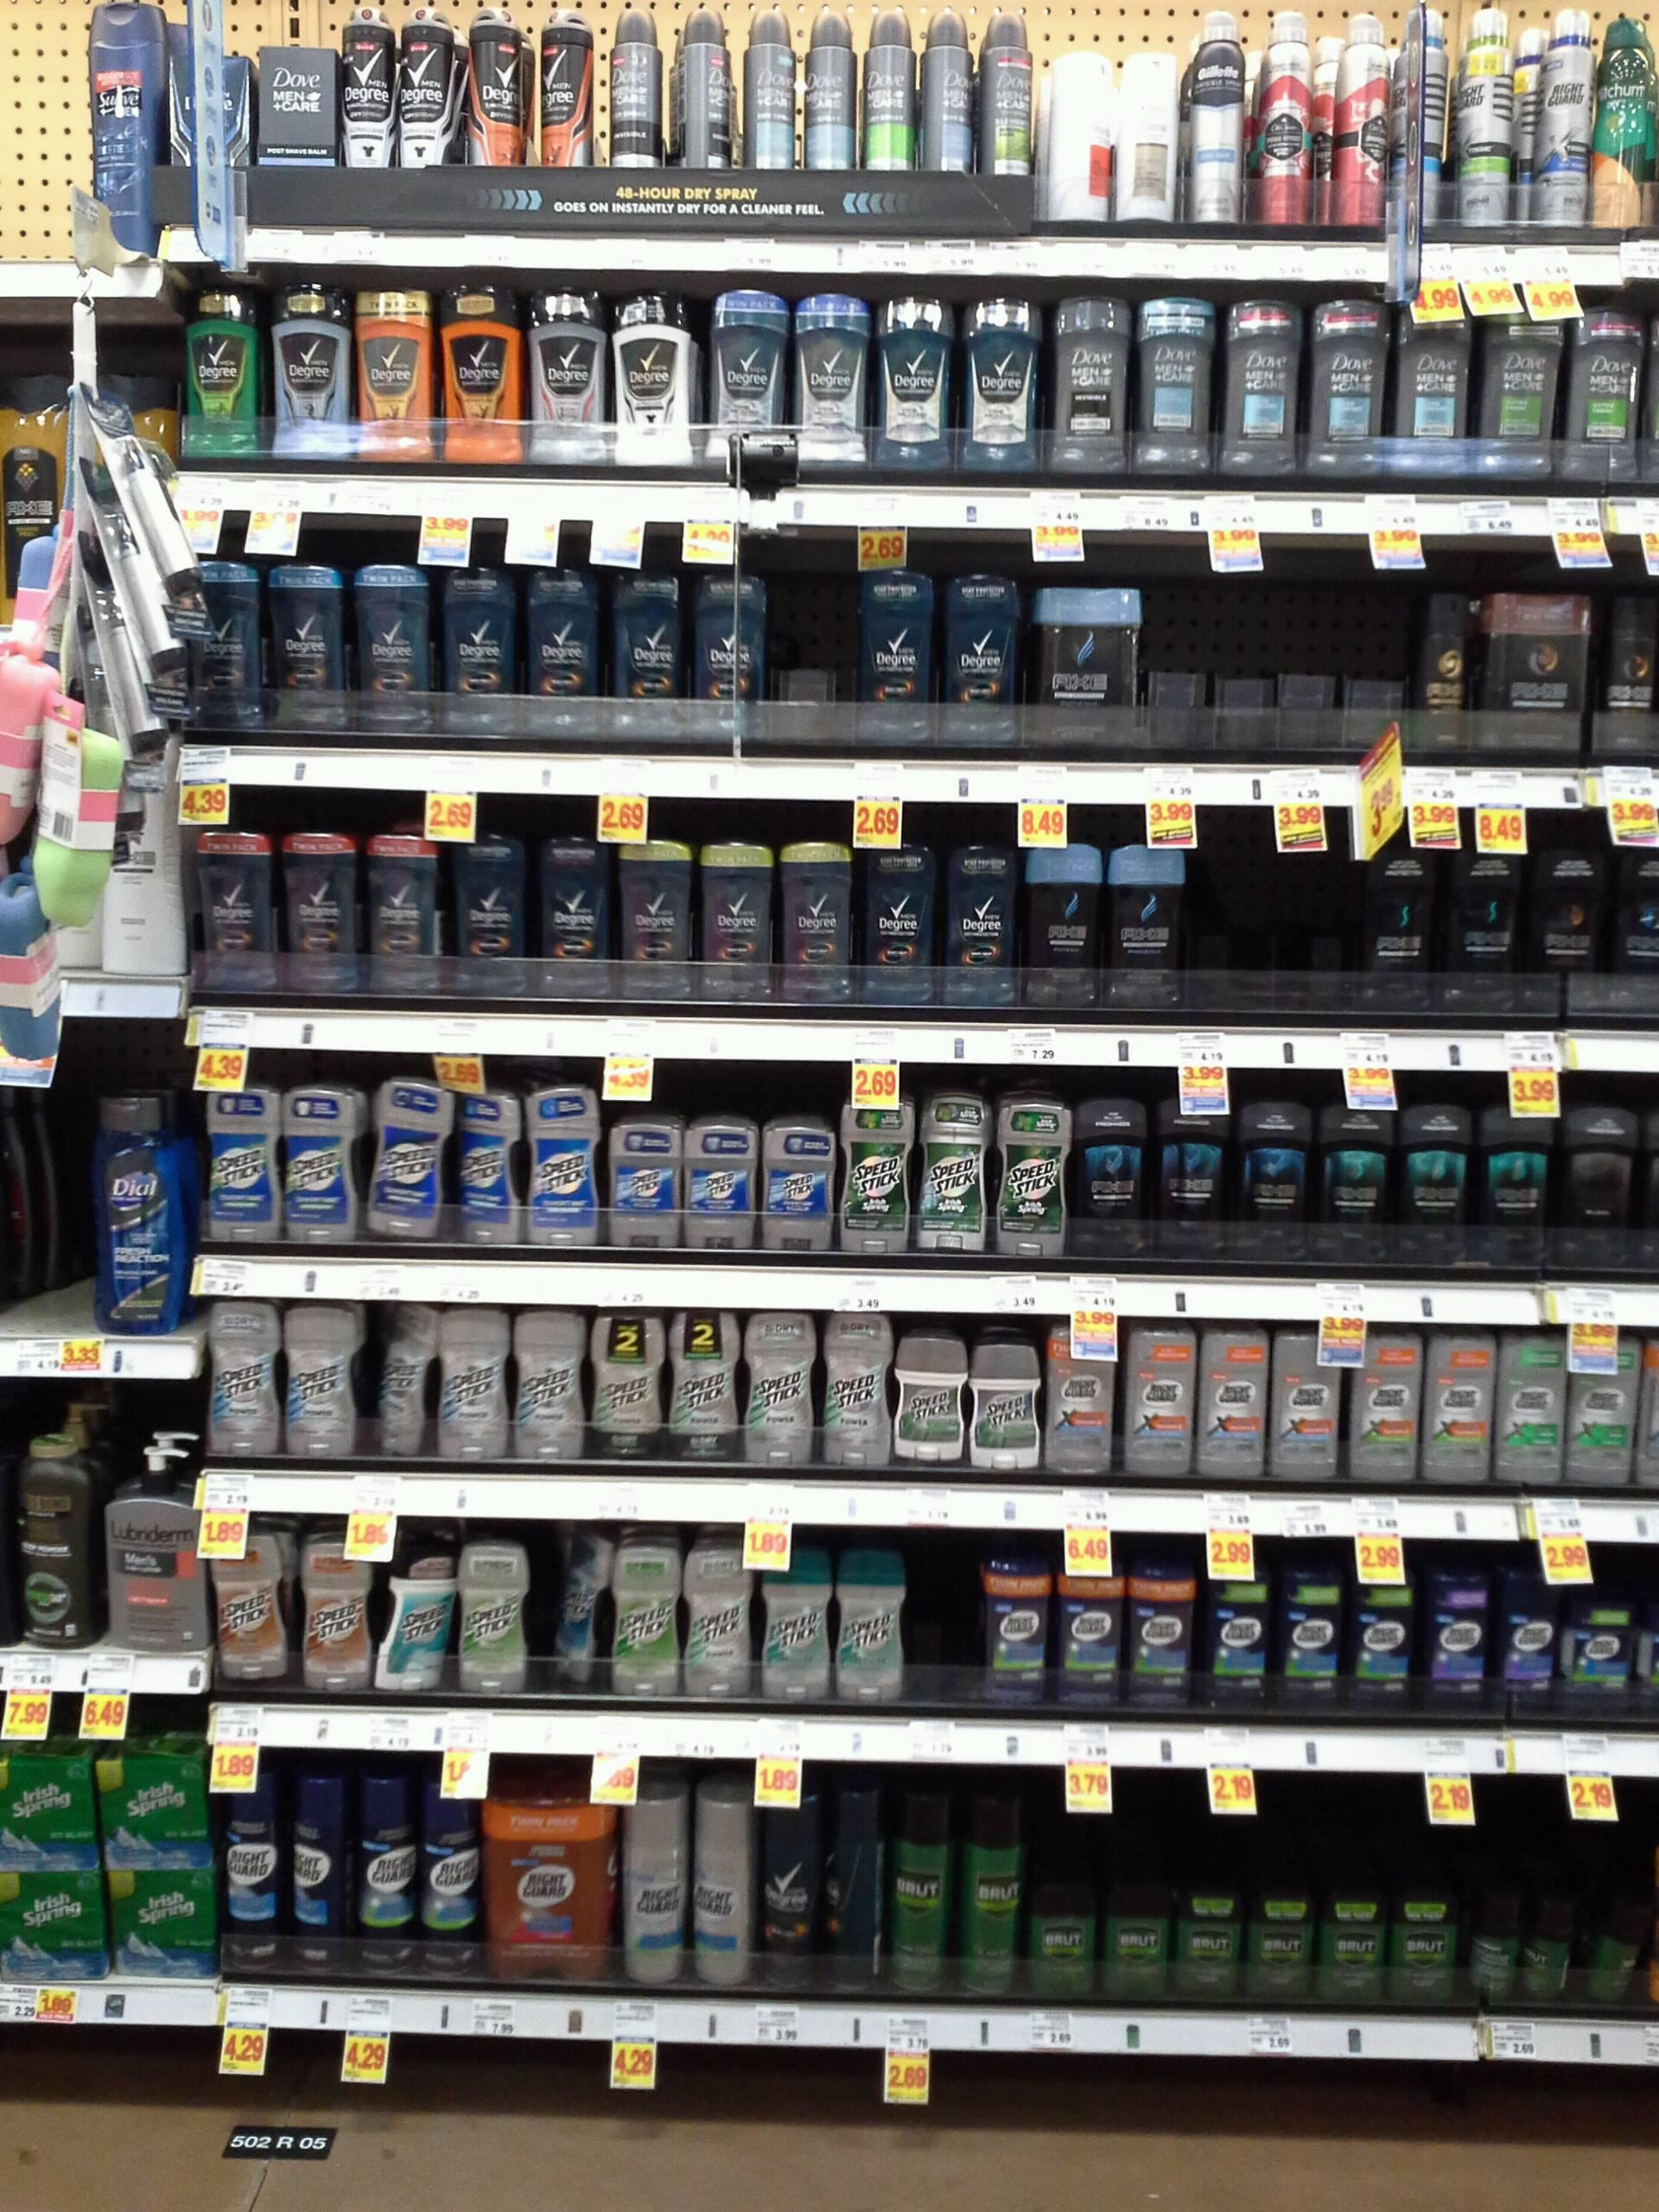empty: (1147, 571, 1410, 733), (1199, 864, 1344, 979), (24, 1104, 82, 1332), (767, 570, 843, 726), (915, 1557, 969, 1698)
misalignment: (368, 1083, 450, 1244), (537, 1536, 610, 1677)
